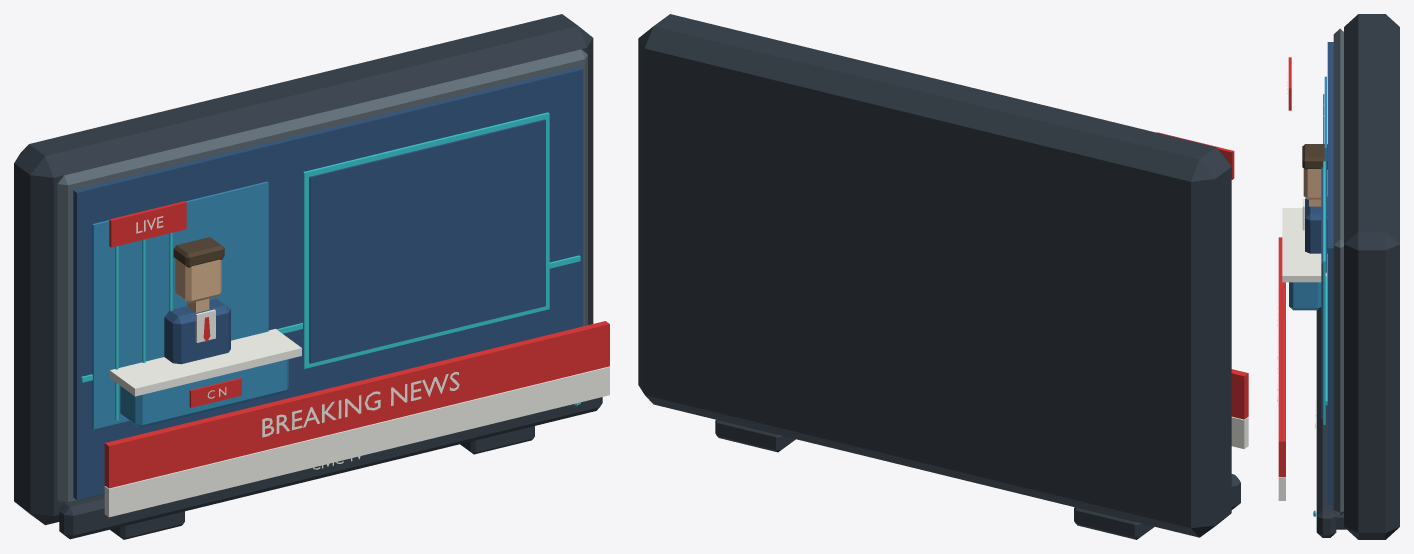
Rendered from TV_News_Custom.fbx.
3 views of the same model, side by side, from view 1: azimuth 30°, elevation 25°; view 2: azimuth 150°, elevation 25°; view 3: azimuth 270°, elevation 25° (orthographic). The views are drawn at different scales.
Parts seen in each view (by area): view 1: Screen Background.016, Story Window.016, TV Back Housing.016, Breaking Lower Third.016, Studio Left Panel.016, Inner Screen Border.016, Hint Strip.016, Lower Bezel.016, Desk Top.016, Story Border.016, Desk.016, Anchor Jacket.016 (+7 smaller); view 2: TV Back Housing.016, TV Foot.033, TV Foot.032, Breaking Lower Third.016; view 3: TV Back Housing.016, Inner Screen Border.016, Screen Background.016, Lower Bezel.016, Desk Top.016, Breaking Lower Third.016, Desk.016, Anchor Jacket.016, Story Border.016, Story Window.016, Anchor Head.016, Anchor Hair.016 (+4 smaller).
Boxes of the visible parts, bbox=[...] form: Screen Background.016: bbox=[73, 67, 583, 499]; Story Window.016: bbox=[309, 119, 545, 363]; TV Back Housing.016: bbox=[14, 14, 593, 525]; Breaking Lower Third.016: bbox=[104, 321, 609, 488]; Studio Left Panel.016: bbox=[92, 181, 268, 429]; Inner Screen Border.016: bbox=[57, 49, 587, 505]; Hint Strip.016: bbox=[104, 366, 609, 517]; Lower Bezel.016: bbox=[59, 397, 602, 539]; Desk Top.016: bbox=[109, 329, 301, 396]; Story Border.016: bbox=[303, 112, 549, 368]; Desk.016: bbox=[120, 359, 288, 427]; Anchor Jacket.016: bbox=[164, 299, 230, 364]; TV Back Housing.016: bbox=[638, 14, 1231, 537]; TV Foot.033: bbox=[715, 420, 795, 452]; TV Foot.032: bbox=[1074, 507, 1154, 539]; Breaking Lower Third.016: bbox=[1231, 369, 1248, 419]; TV Back Housing.016: bbox=[1344, 14, 1399, 539]; Inner Screen Border.016: bbox=[1333, 28, 1343, 515]; Screen Background.016: bbox=[1327, 42, 1333, 504]; Lower Bezel.016: bbox=[1316, 308, 1336, 537]; Desk Top.016: bbox=[1282, 208, 1326, 282]; Breaking Lower Third.016: bbox=[1278, 237, 1285, 476]; Desk.016: bbox=[1289, 282, 1321, 310]; Anchor Jacket.016: bbox=[1305, 197, 1327, 253]; Story Border.016: bbox=[1323, 161, 1325, 424]; Story Window.016: bbox=[1321, 167, 1323, 418]; Anchor Head.016: bbox=[1303, 168, 1327, 199]; Anchor Hair.016: bbox=[1302, 144, 1327, 169].
Size of the model in its own units: 418 by 275 by 94.58.
